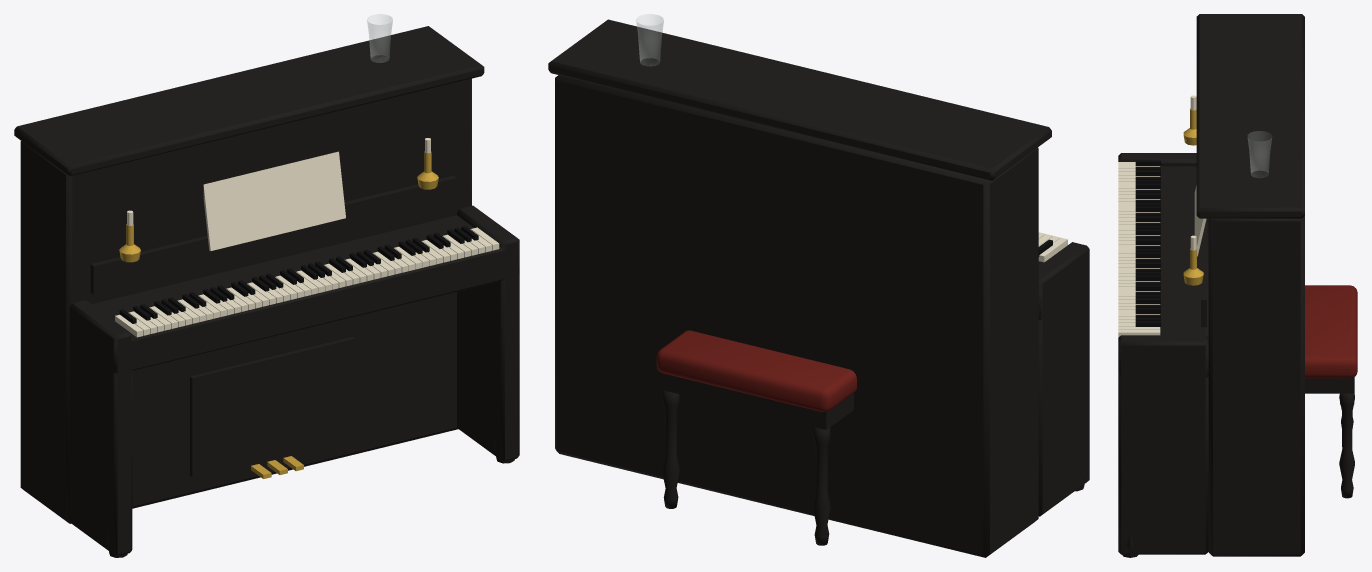
Rendered from piano.glb.
The picture shows the model from 3 angles, left to right: view 1: azimuth 30°, elevation 25°; view 2: azimuth 150°, elevation 25°; view 3: azimuth 270°, elevation 25°; orthographic projection. The views are drawn at different scales.
Visible parts, largest first — view 1: piano_upright; view 2: piano_upright, piano_stool; view 3: piano_upright, piano_stool.
Boxes of the visible parts, bbox=[...] form: piano_upright: bbox=[14, 14, 519, 557]; piano_upright: bbox=[548, 14, 1089, 557]; piano_stool: bbox=[656, 330, 856, 545]; piano_upright: bbox=[1118, 14, 1304, 557]; piano_stool: bbox=[1305, 285, 1357, 498].
Bounding box in the file's own units: 1.54 × 1.43 × 0.795.
